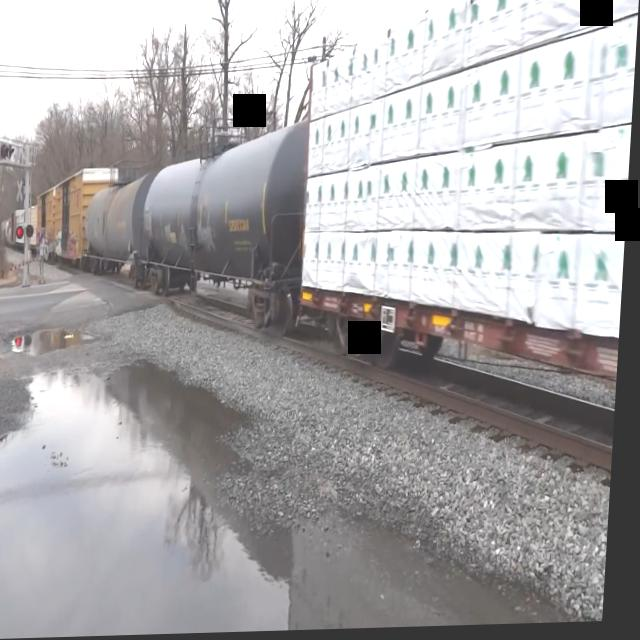boxcar: (49, 165, 115, 271)
tank: (135, 110, 312, 347), (78, 163, 158, 289)
